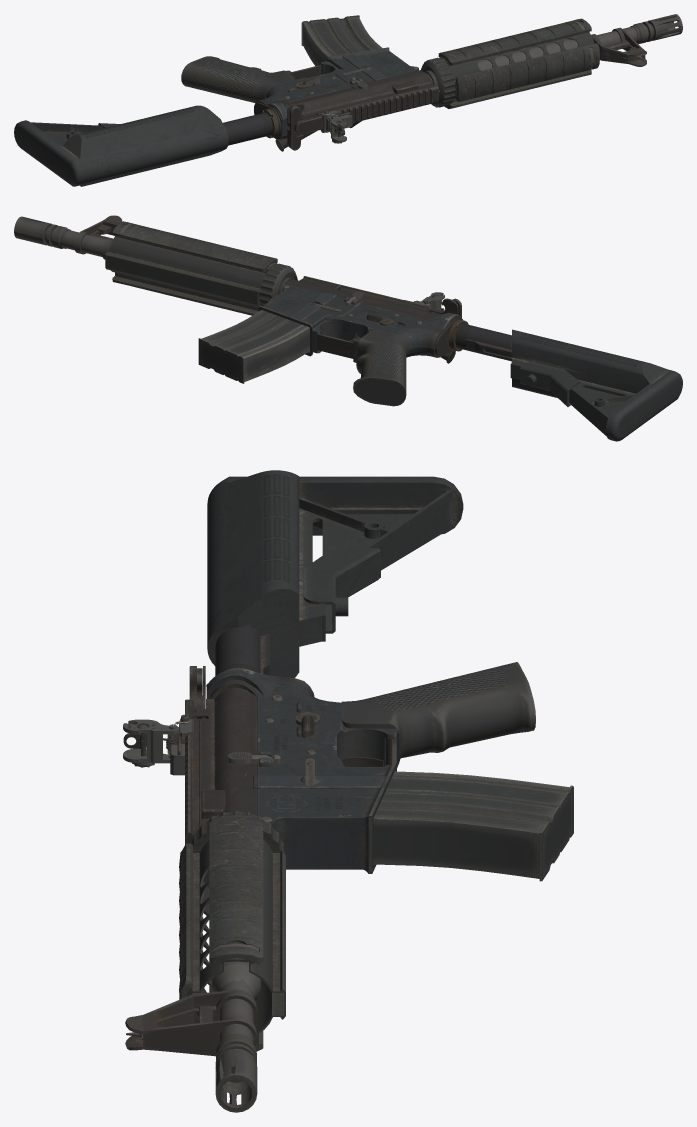
Rendered from weapon_m4a4.glb.
3 renders of one model, top to bottom at view 1: azimuth 30°, elevation 25°; view 2: azimuth 150°, elevation 25°; view 3: azimuth 270°, elevation 25°, orthographic. The views are drawn at different scales.
Parts seen in each view (by area): view 1: weapon_m4a4; view 2: weapon_m4a4; view 3: weapon_m4a4.
Part boxes in pixels (x1,y1,x2,y2): weapon_m4a4: (14, 14, 682, 186); weapon_m4a4: (14, 215, 682, 441); weapon_m4a4: (123, 470, 573, 1112).
Bounding box in the file's own units: 0.8972 × 0.0778 × 0.2877.
1 material, 1 textured.
